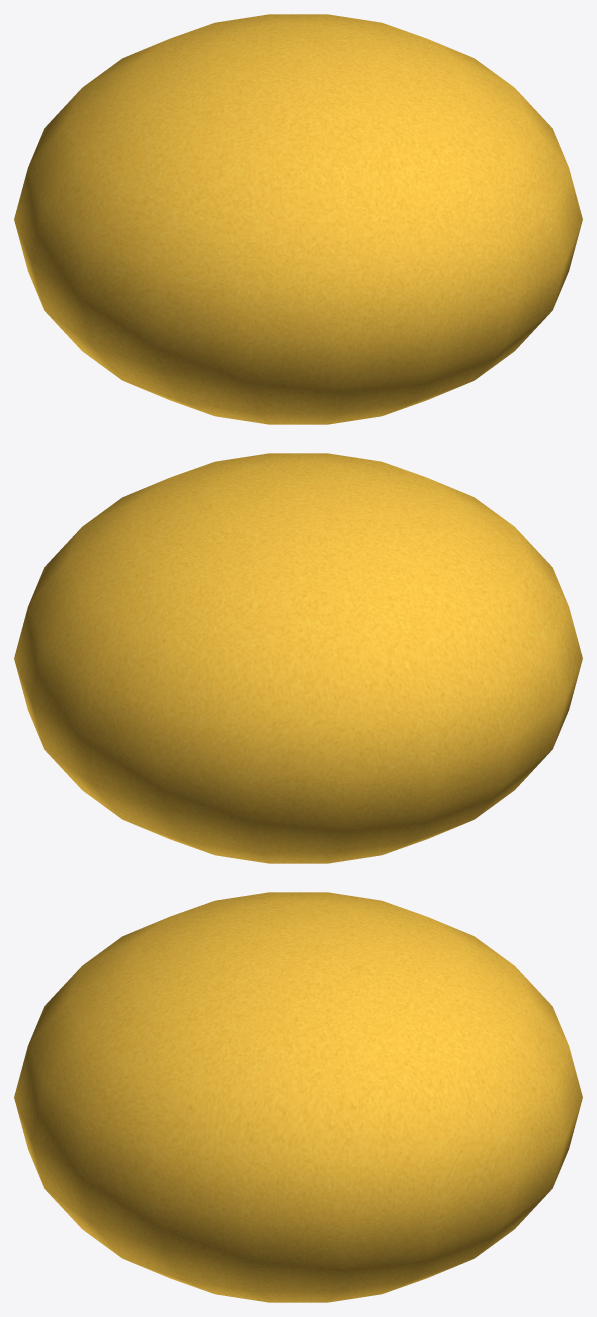
The model's file is pastel_cushion_03.glb.
3 renders of one model, top to bottom at view 1: azimuth 30°, elevation 25°; view 2: azimuth 150°, elevation 25°; view 3: azimuth 270°, elevation 25°, orthographic.
Parts seen in each view (by area): view 1: pastel_cushion_03; view 2: pastel_cushion_03; view 3: pastel_cushion_03.
Boxes of the visible parts, x1,y1,x2,y2 form: pastel_cushion_03: (14,14,582,424); pastel_cushion_03: (14,453,582,863); pastel_cushion_03: (14,892,582,1302).
Size of the model in its own units: 0.4333 by 0.286 by 0.44.
Materials: 1 (1 with a texture image).
